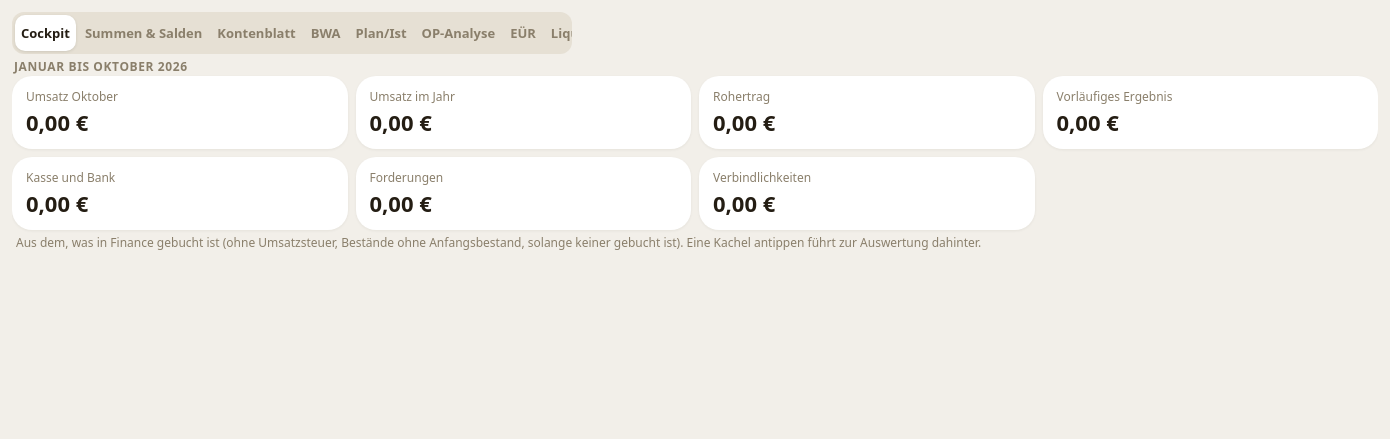
FinanceAuswertungen › BWA und EÜR
The width and height of the screenshot is (1390, 439).
Click the tab "Summen & Salden". click: (144, 33)
box: [79,15,208,51]
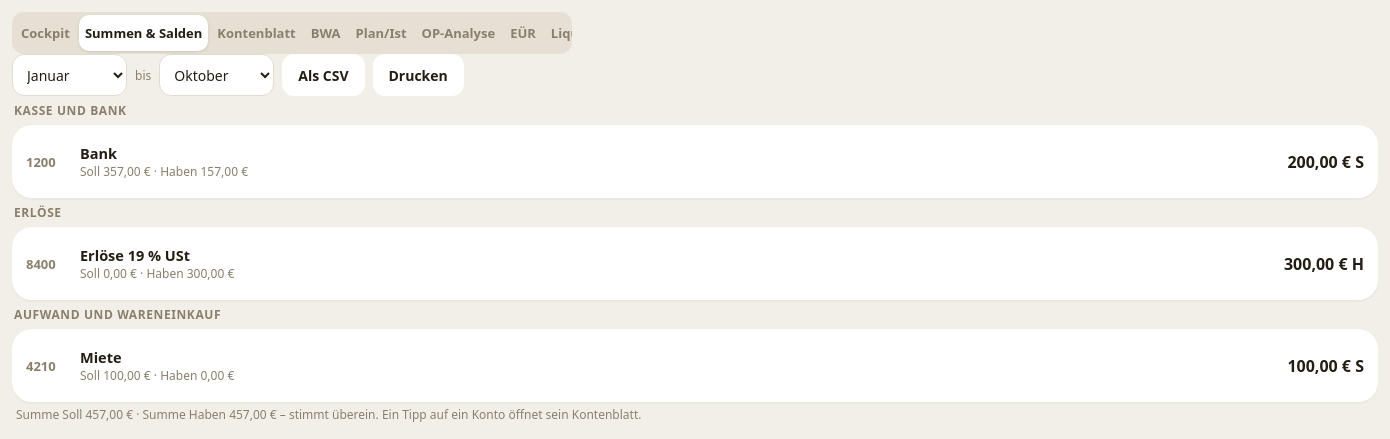
Expected: the text "Erlöse 19 % USt" is shown, [80,245,190,265]
Click the tab "BWA". click: (326, 33)
box: [305,15,346,51]
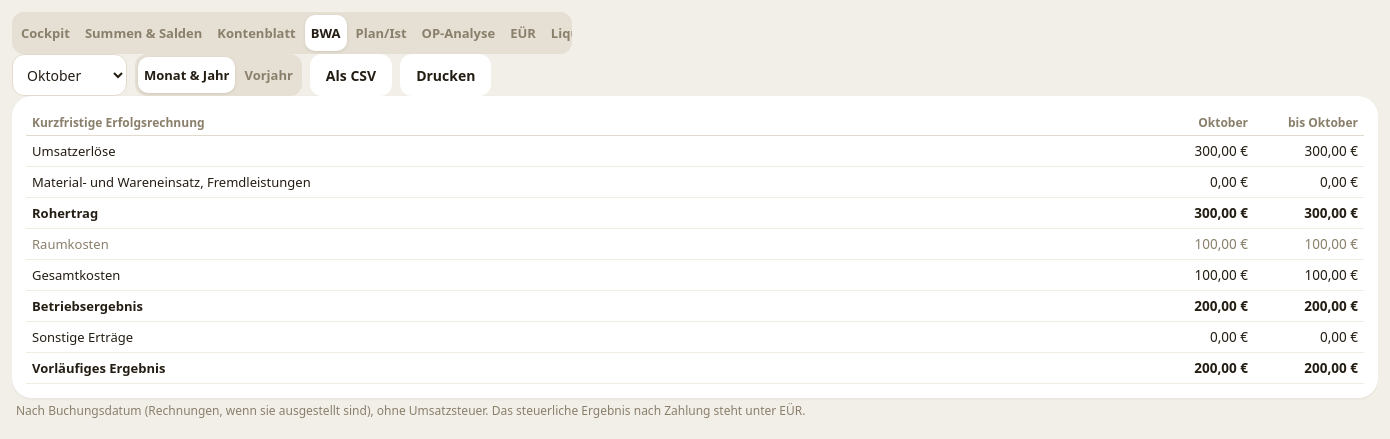
Expected: the text "Rohertrag" reads "Rohertrag 300,00 € 300,00 €", [26,198,1364,228]
Expected: the text "Betriebsergebnis" reads "Betriebsergebnis 200,00 € 200,00 €", [1194,297,1248,315]
Click the tab "EÜR". click: (523, 33)
box: [504,15,542,51]
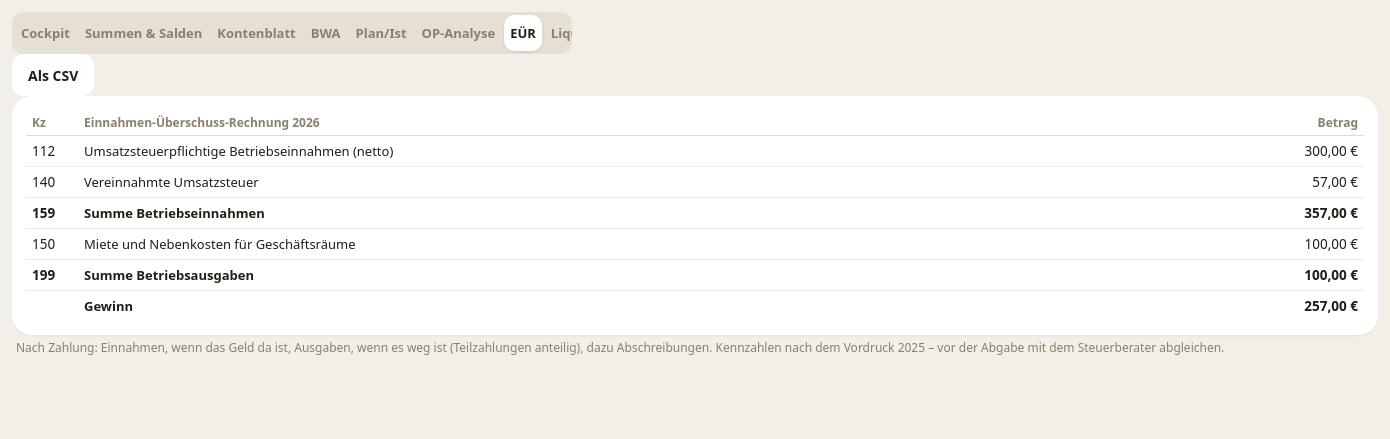
Expected: the text "Summe Betriebseinnahmen" reads "159 Summe Betriebseinnahmen 357,00 €", [1304,204,1358,222]
Expected: the text "Gewinn" reads "Gewinn 257,00 €", [1304,297,1358,315]
